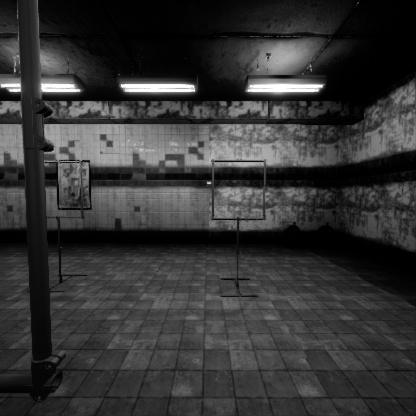gate: (211, 195, 271, 256), (30, 196, 88, 255)
